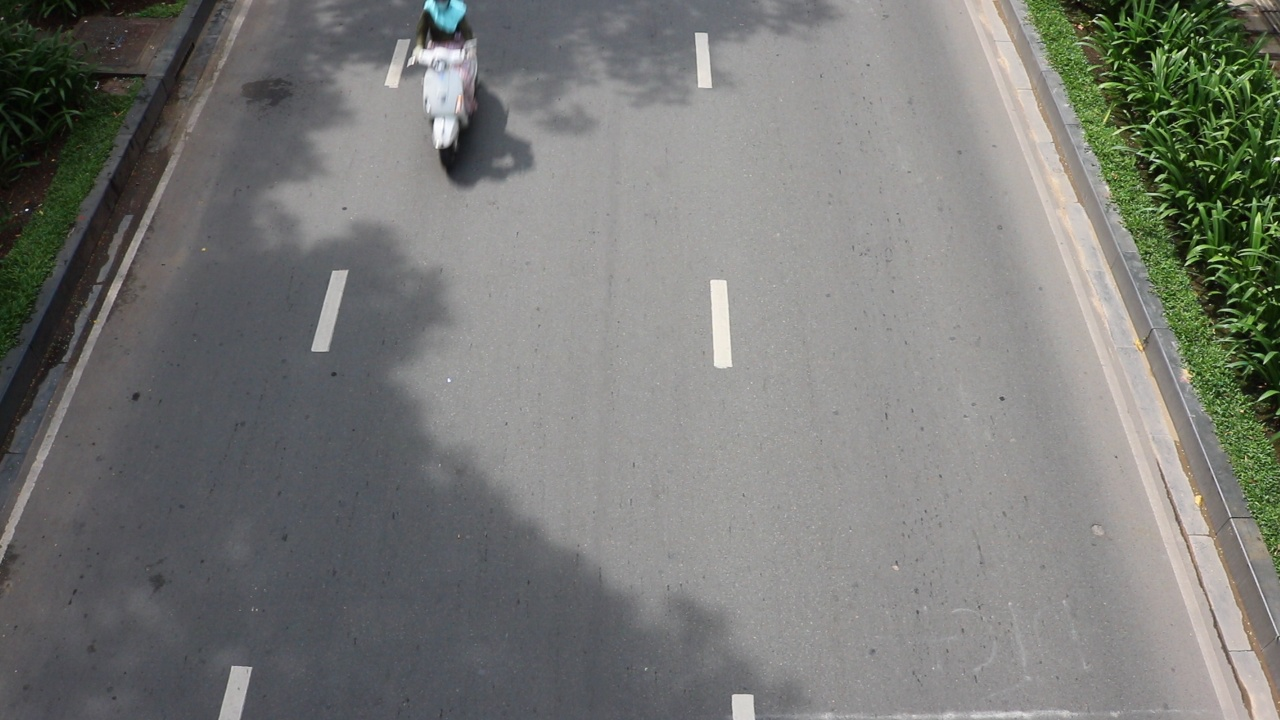motorcycle: (406, 43, 478, 171)
